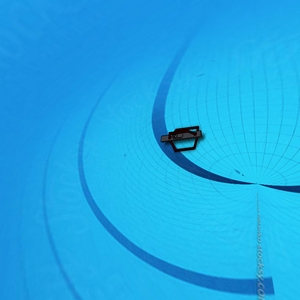submarine: (159, 128, 207, 152)
